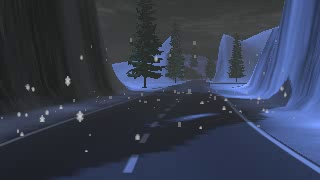Lane: (0, 77, 319, 179)
